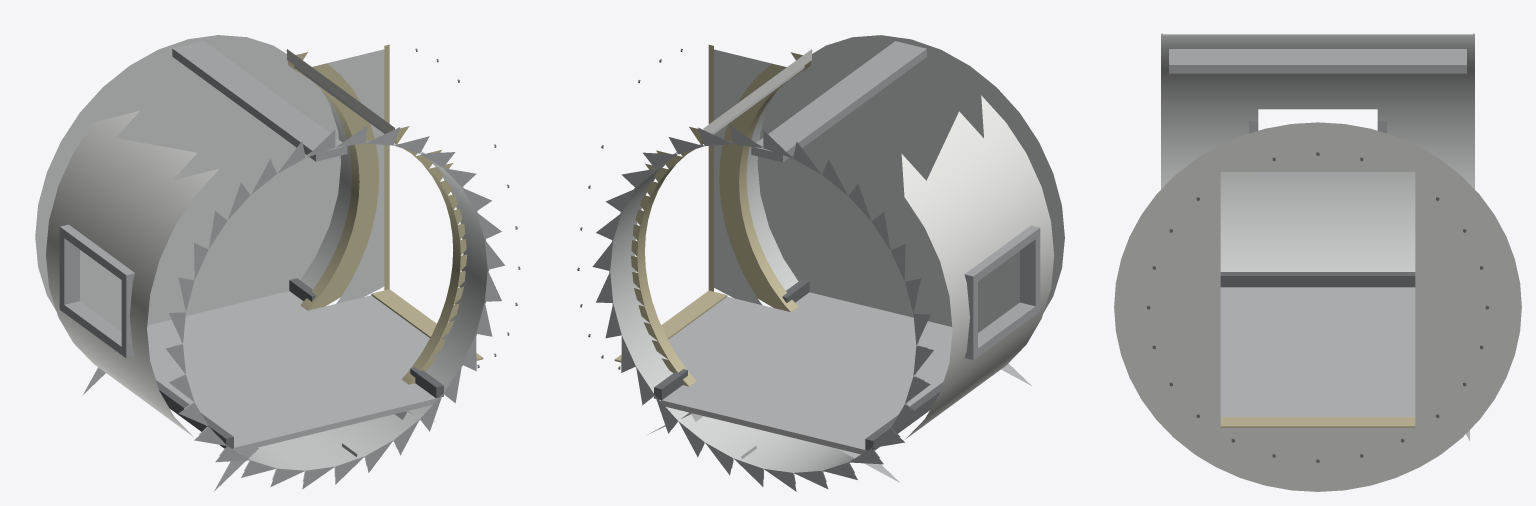
File: habWindowJRbf_steel_meshin.glb
3 views of the same model, side by side, from view 1: azimuth 30°, elevation 25°; view 2: azimuth 150°, elevation 25°; view 3: azimuth 270°, elevation 25° (orthographic). The views are drawn at different scales.
Parts seen in each view (by area): view 1: habWindowJRbf_steel_meshin; view 2: habWindowJRbf_steel_meshin; view 3: habWindowJRbf_steel_meshin.
Boxes of the visible parts, box(x1,y1,x2,y2) form: habWindowJRbf_steel_meshin: box(35, 35, 520, 491); habWindowJRbf_steel_meshin: box(577, 35, 1064, 491); habWindowJRbf_steel_meshin: box(1114, 33, 1521, 491).
Size of the model in its own units: 2.66 by 2.6 by 2.6.
